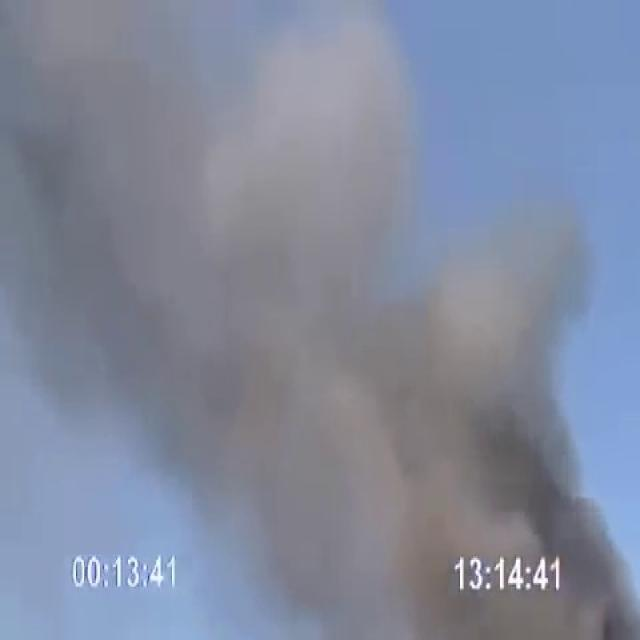Smoke: (7, 0, 634, 640)
